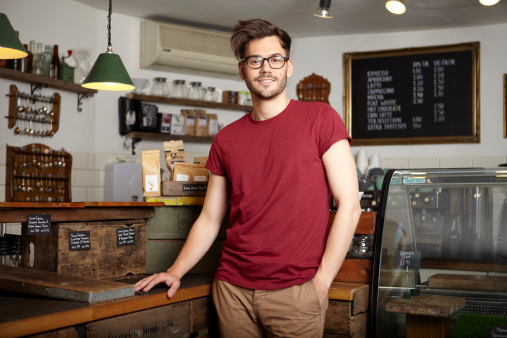em pe: (174, 25, 356, 338)
